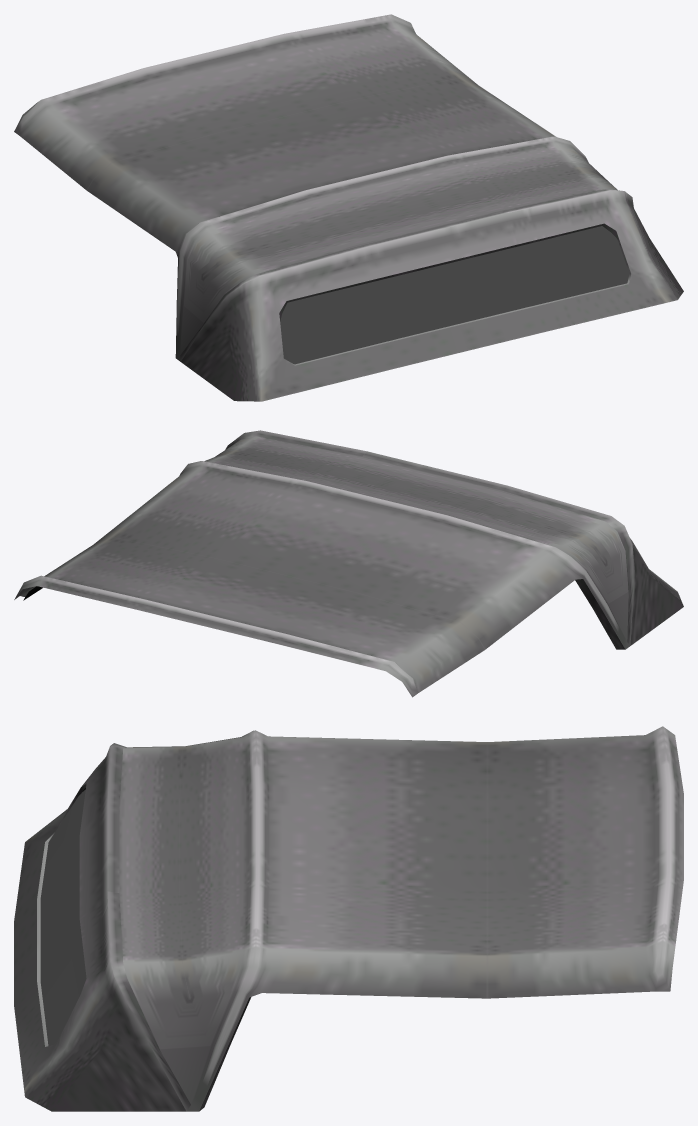
3 renders of one model, top to bottom at view 1: azimuth 30°, elevation 25°; view 2: azimuth 150°, elevation 25°; view 3: azimuth 270°, elevation 25°, orthographic. The views are drawn at different scales.
Parts seen in each view (by area): view 1: rf_lr_sv2; view 2: rf_lr_sv2; view 3: rf_lr_sv2.
Part boxes in pixels (x1,y1,x2,y2): rf_lr_sv2: [14, 14, 683, 401]; rf_lr_sv2: [14, 430, 683, 697]; rf_lr_sv2: [14, 726, 683, 1111].
Size of the model in its own units: 2.11 by 0.5182 by 2.16.
Materials: 3 (3 with a texture image).
